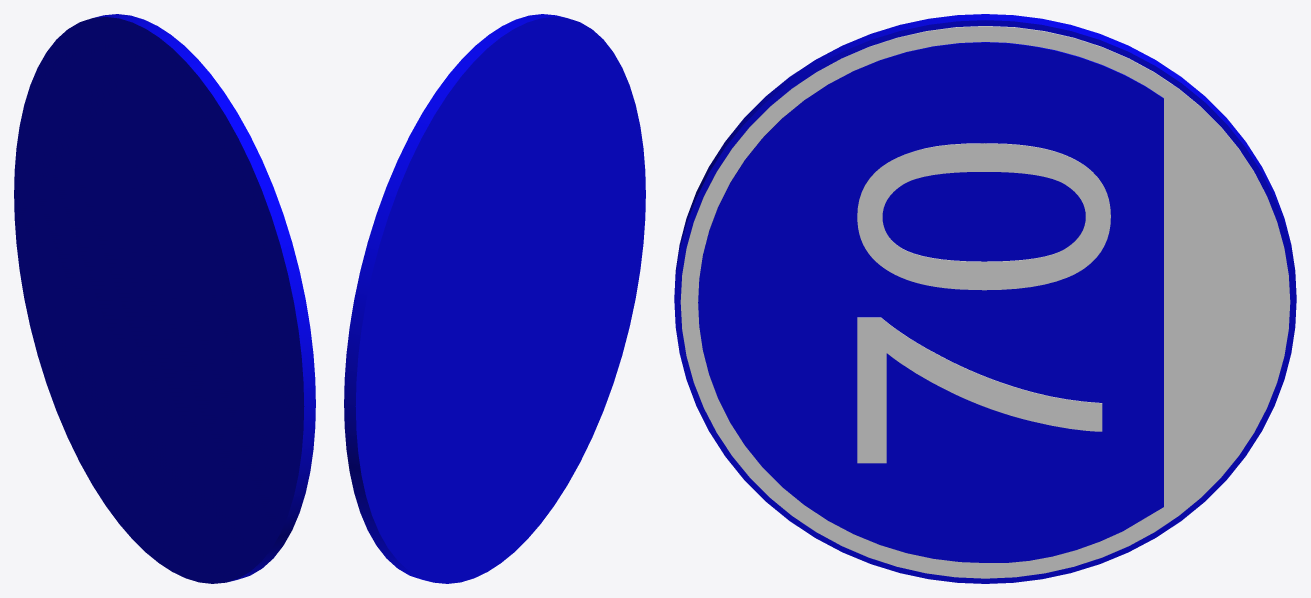
The model's file is 最低限速70.gltf.
3 views of the same model, side by side, from view 1: azimuth 30°, elevation 25°; view 2: azimuth 150°, elevation 25°; view 3: azimuth 270°, elevation 25° (orthographic). The views are drawn at different scales.
Visible parts, largest first — view 1: 最低时速限制70; view 2: 最低时速限制70; view 3: 最低时速限制70.
Part boxes in pixels (<box>): 最低时速限制70: <box>14,14,315,583</box>; 最低时速限制70: <box>344,14,645,583</box>; 最低时速限制70: <box>674,14,1296,583</box>.
Size of the model in its own units: 0.0213 by 0.7691 by 0.7691.
